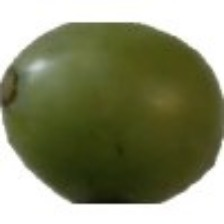grapes: (48, 12, 184, 193)
